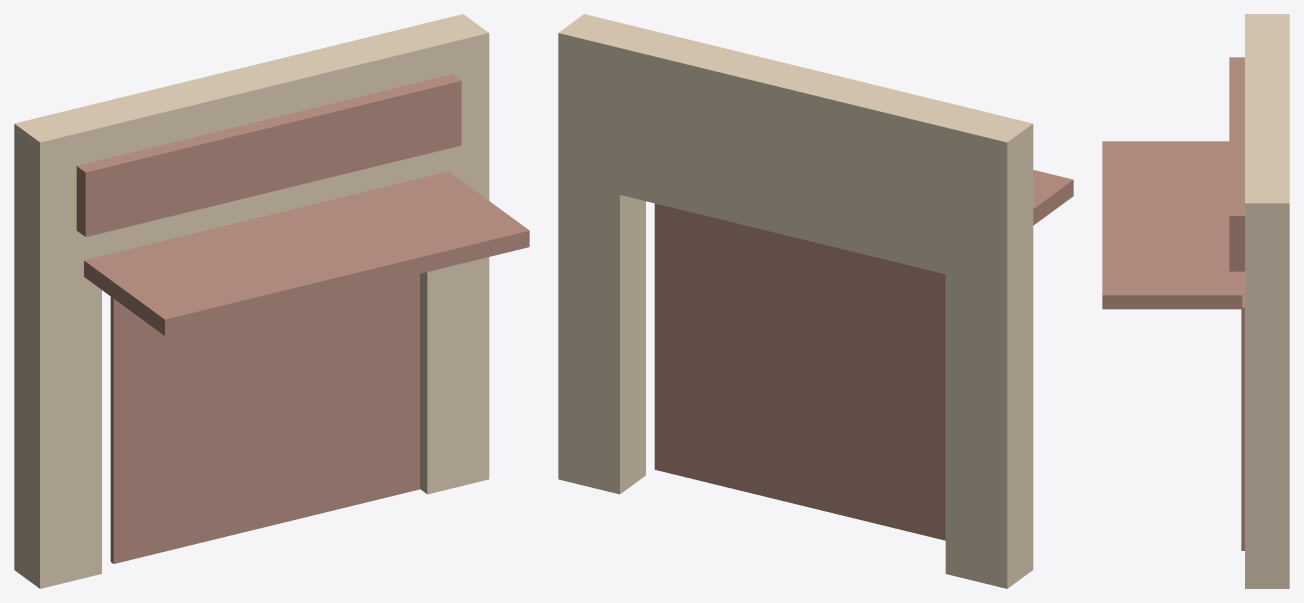
File: bh_souq_shop_gold_01_lod0.glb
3 views of the same model, side by side, from view 1: azimuth 30°, elevation 25°; view 2: azimuth 150°, elevation 25°; view 3: azimuth 270°, elevation 25° (orthographic). The views are drawn at different scales.
Visible parts, largest first — view 1: bh_souq_shop_gold_01_infill, bh_souq_shop_gold_01_left, bh_souq_shop_gold_01_awning, bh_souq_shop_gold_01_fascia, bh_souq_shop_gold_01_top, bh_souq_shop_gold_01_right; view 2: bh_souq_shop_gold_01_infill, bh_souq_shop_gold_01_top, bh_souq_shop_gold_01_left, bh_souq_shop_gold_01_right, bh_souq_shop_gold_01_awning; view 3: bh_souq_shop_gold_01_awning, bh_souq_shop_gold_01_right, bh_souq_shop_gold_01_top, bh_souq_shop_gold_01_fascia, bh_souq_shop_gold_01_left, bh_souq_shop_gold_01_infill.
Part boxes in pixels (x1,y1,x2,y2): bh_souq_shop_gold_01_infill: (110, 274, 419, 563); bh_souq_shop_gold_01_left: (14, 108, 101, 588); bh_souq_shop_gold_01_awning: (84, 171, 529, 335); bh_souq_shop_gold_01_fascia: (76, 74, 461, 236); bh_souq_shop_gold_01_top: (76, 29, 427, 255); bh_souq_shop_gold_01_right: (402, 14, 489, 494); bh_souq_shop_gold_01_infill: (654, 203, 945, 540); bh_souq_shop_gold_01_top: (620, 29, 970, 274); bh_souq_shop_gold_01_left: (945, 108, 1033, 588); bh_souq_shop_gold_01_right: (558, 14, 645, 494); bh_souq_shop_gold_01_awning: (1033, 170, 1073, 225); bh_souq_shop_gold_01_awning: (1102, 141, 1242, 309); bh_souq_shop_gold_01_right: (1245, 177, 1289, 588); bh_souq_shop_gold_01_top: (1245, 40, 1289, 177); bh_souq_shop_gold_01_fascia: (1229, 57, 1244, 271); bh_souq_shop_gold_01_left: (1245, 14, 1289, 39); bh_souq_shop_gold_01_infill: (1241, 271, 1244, 550).
Size of the model in its own units: 4 by 3.8 by 1.68.
